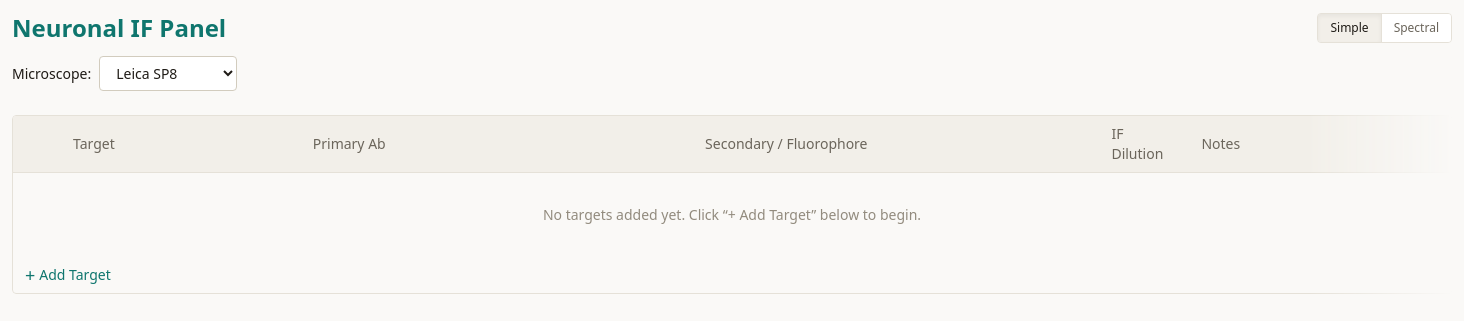
IFPanelDesignerView › panel name › pressing Escape reverts the name and exits edit mode
Click the heading "Neuronal IF Panel" at (119, 28), box [12,12,226,44]
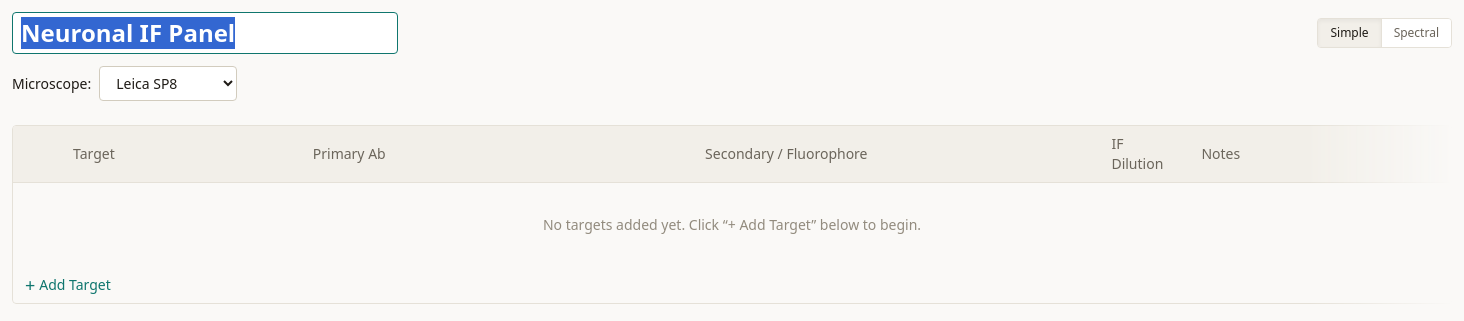
Replace the text in the field with "Changed Name" at (205, 33), box [12,12,398,54]
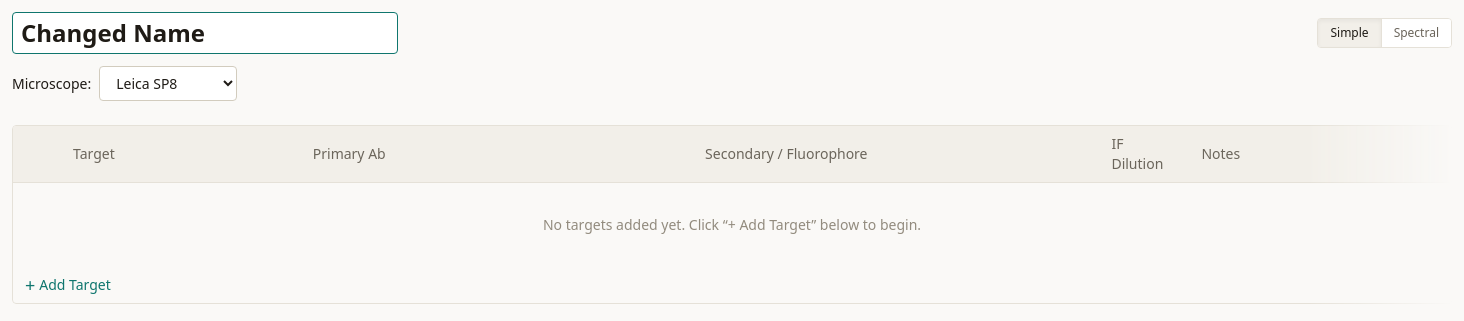
Press Escape in the field, box [12,12,398,54]
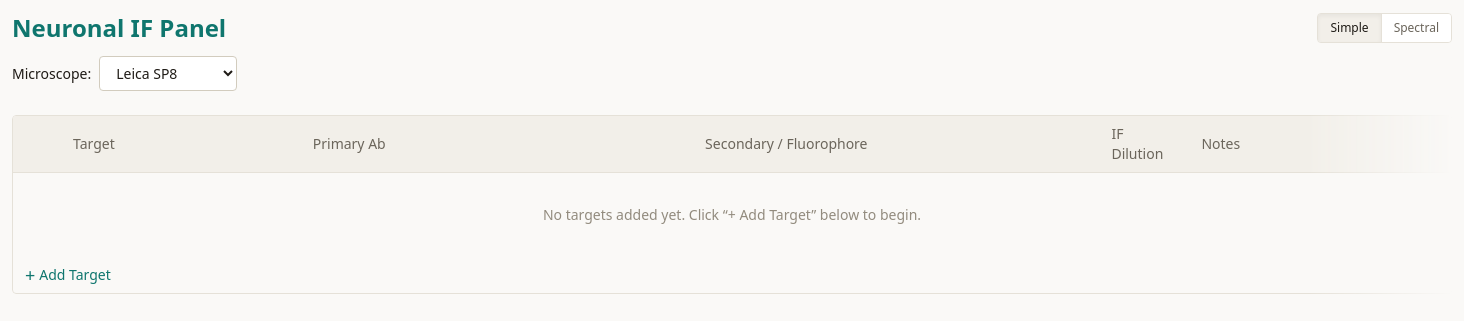
Result: the heading "Neuronal IF Panel" is shown at [12,12,226,44]
